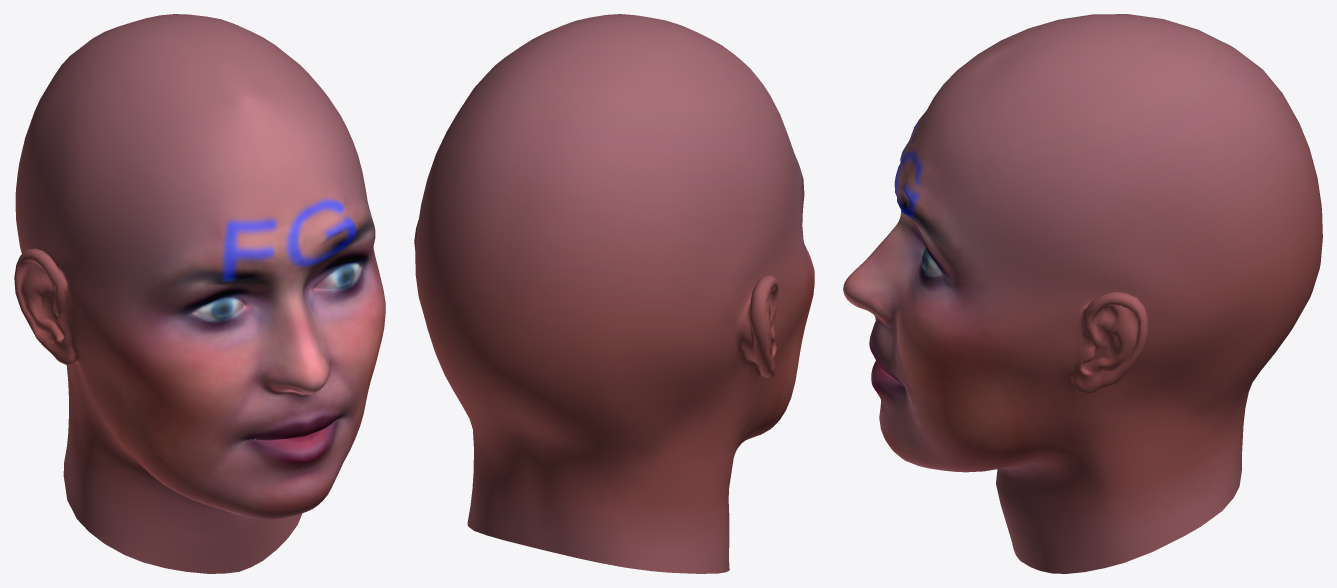
Rendered from avg_anyrace_female_06.obj.
3 views of the same model, side by side, from view 1: azimuth 30°, elevation 25°; view 2: azimuth 150°, elevation 25°; view 3: azimuth 270°, elevation 25° (orthographic). The views are drawn at different scales.
Parts seen in each view (by area): view 1: HeadHires; view 2: HeadHires; view 3: HeadHires.
Part boxes in pixels (box(x1,y1,x2,y2)): HeadHires: box(14, 14, 385, 573); HeadHires: box(414, 14, 814, 573); HeadHires: box(843, 14, 1322, 573).
Size of the model in its own units: 191 by 283 by 236.
Materials: 1 (1 with a texture image).
